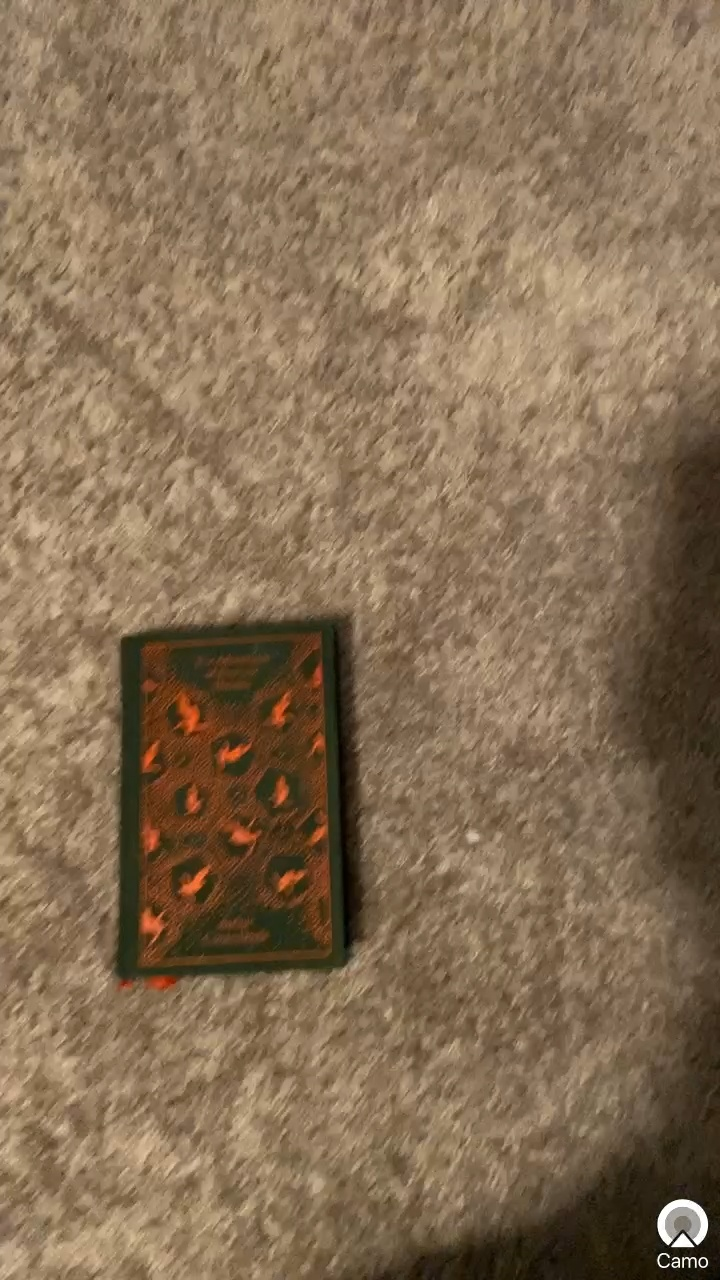Book: (63, 594, 423, 1033)
